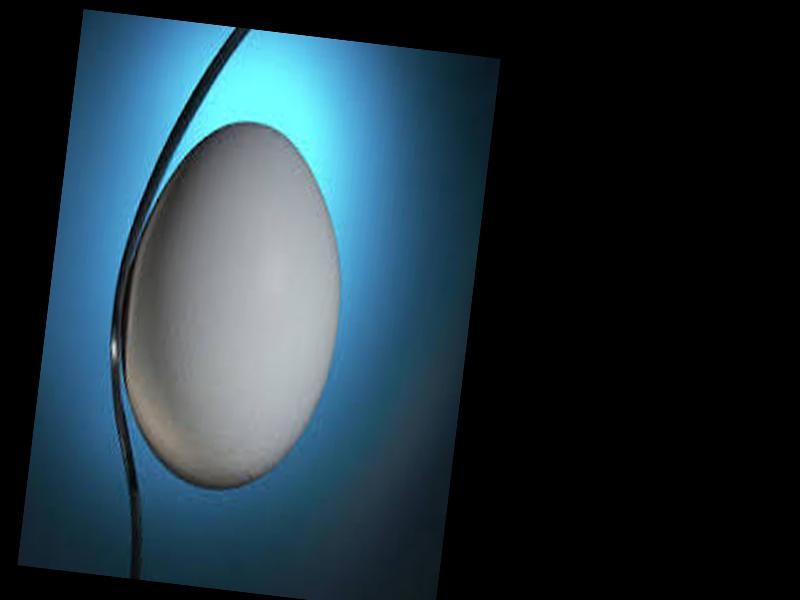Eggs: (106, 110, 357, 500)
